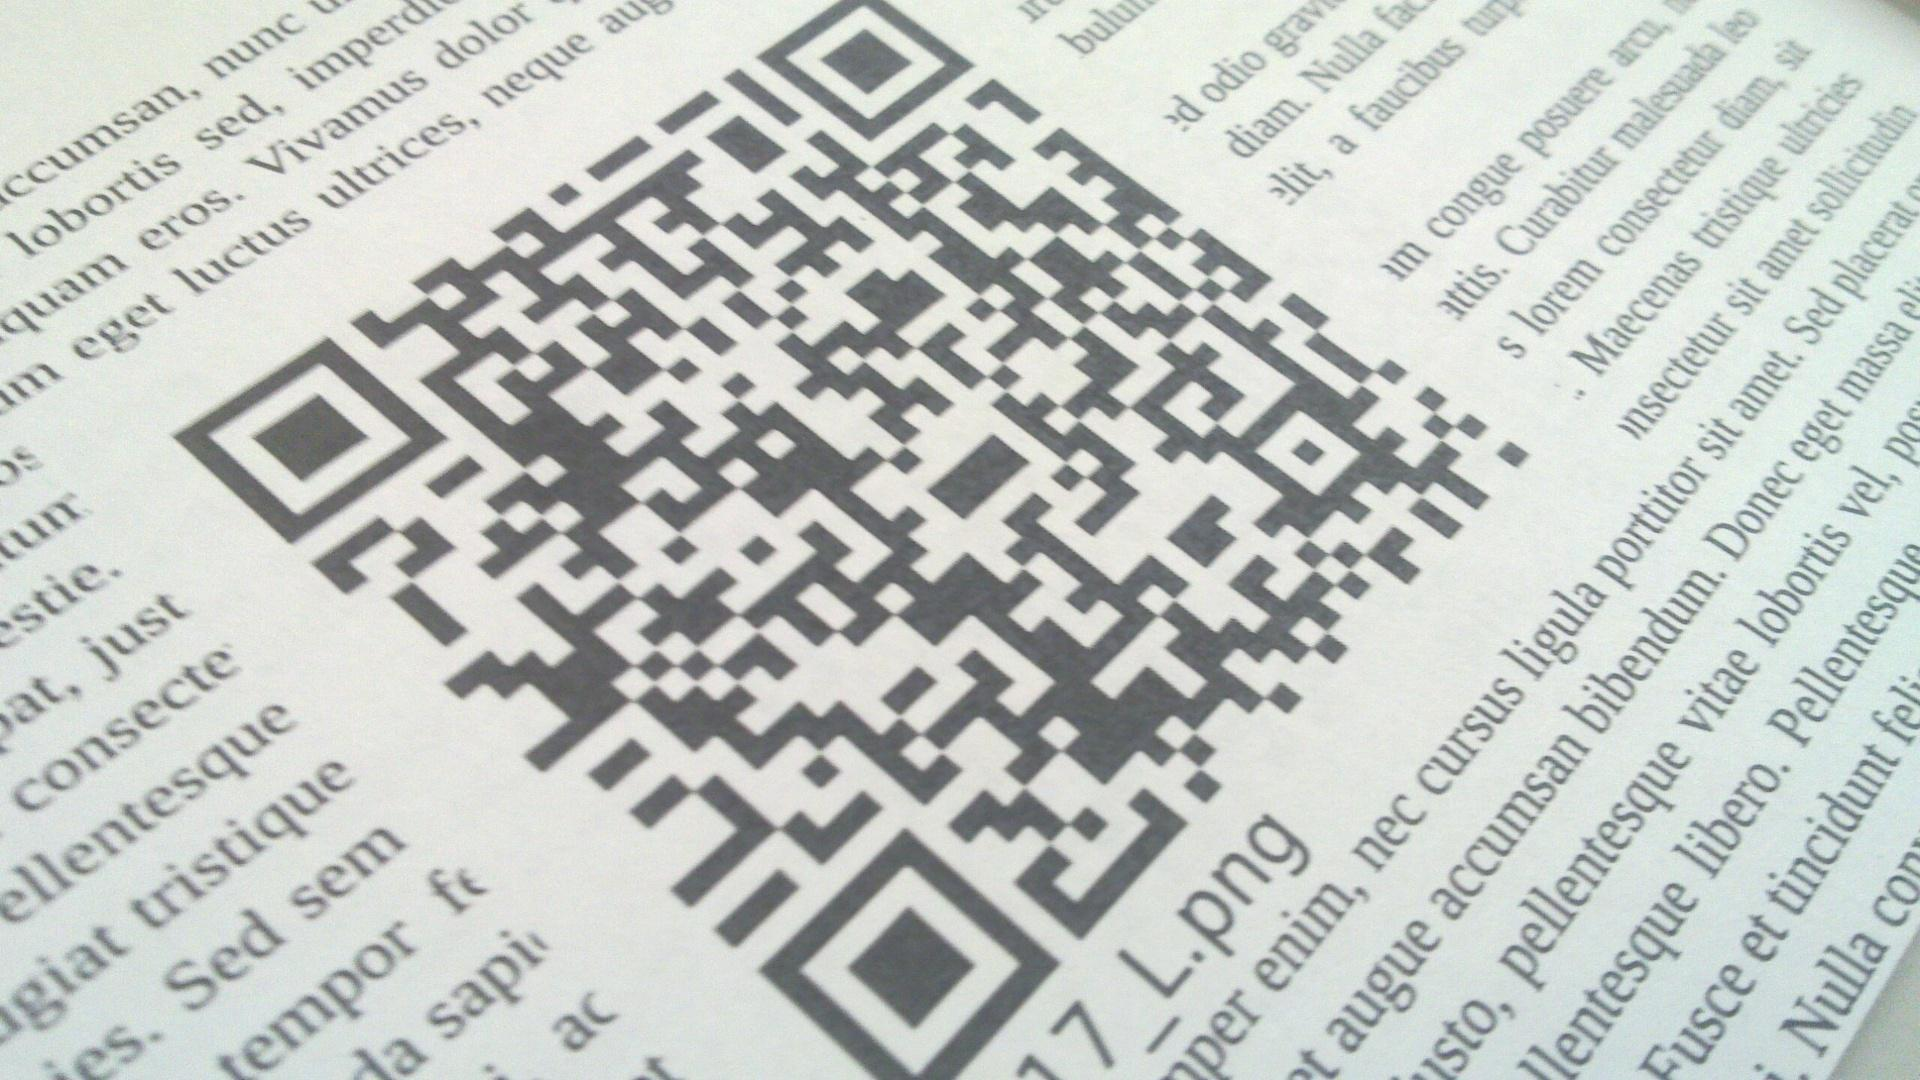Finder pattern: (753, 837, 1056, 1079), (177, 352, 430, 533), (752, 0, 986, 135)
